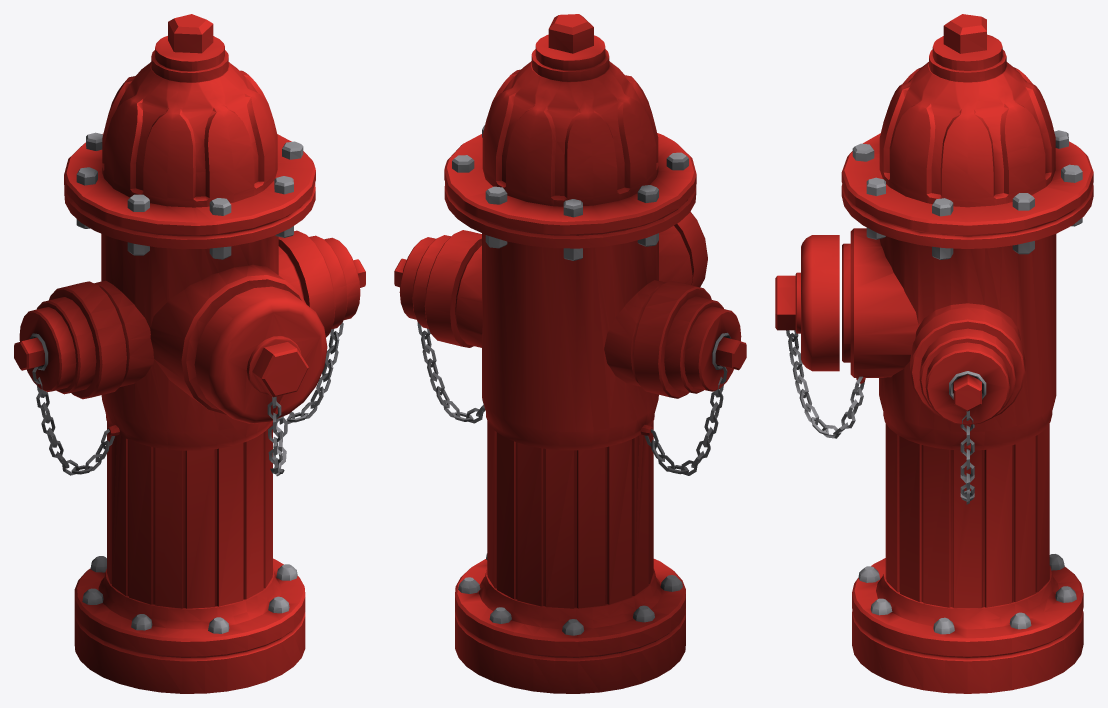
Rendered from houdini_fire_hydrant.glb.
The picture shows the model from 3 angles, left to right: view 1: azimuth 30°, elevation 25°; view 2: azimuth 150°, elevation 25°; view 3: azimuth 270°, elevation 25°; orthographic projection.
Parts seen in each view (by area): view 1: LOD0; view 2: LOD0; view 3: LOD0.
Boxes of the visible parts, box(x1,y1,x2,y2) form: LOD0: box(14, 14, 365, 693); LOD0: box(394, 14, 746, 693); LOD0: box(775, 14, 1093, 693).
Size of what is drawn, in the model's own units: 0.457 by 0.803 by 0.3715.
Materials: 2 (2 with a texture image).
